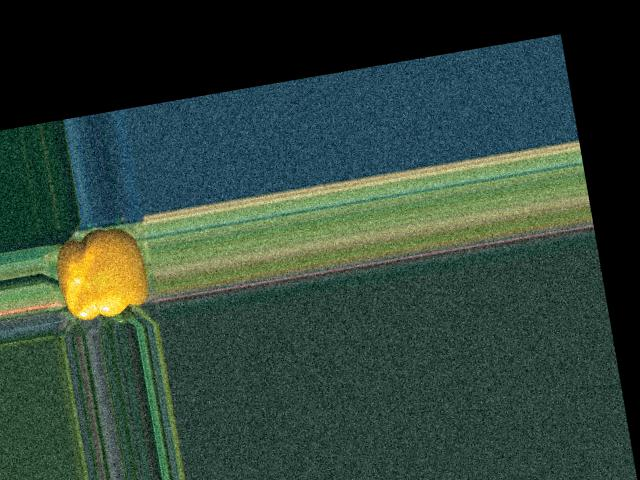bell_pepper: (44, 221, 158, 333)
